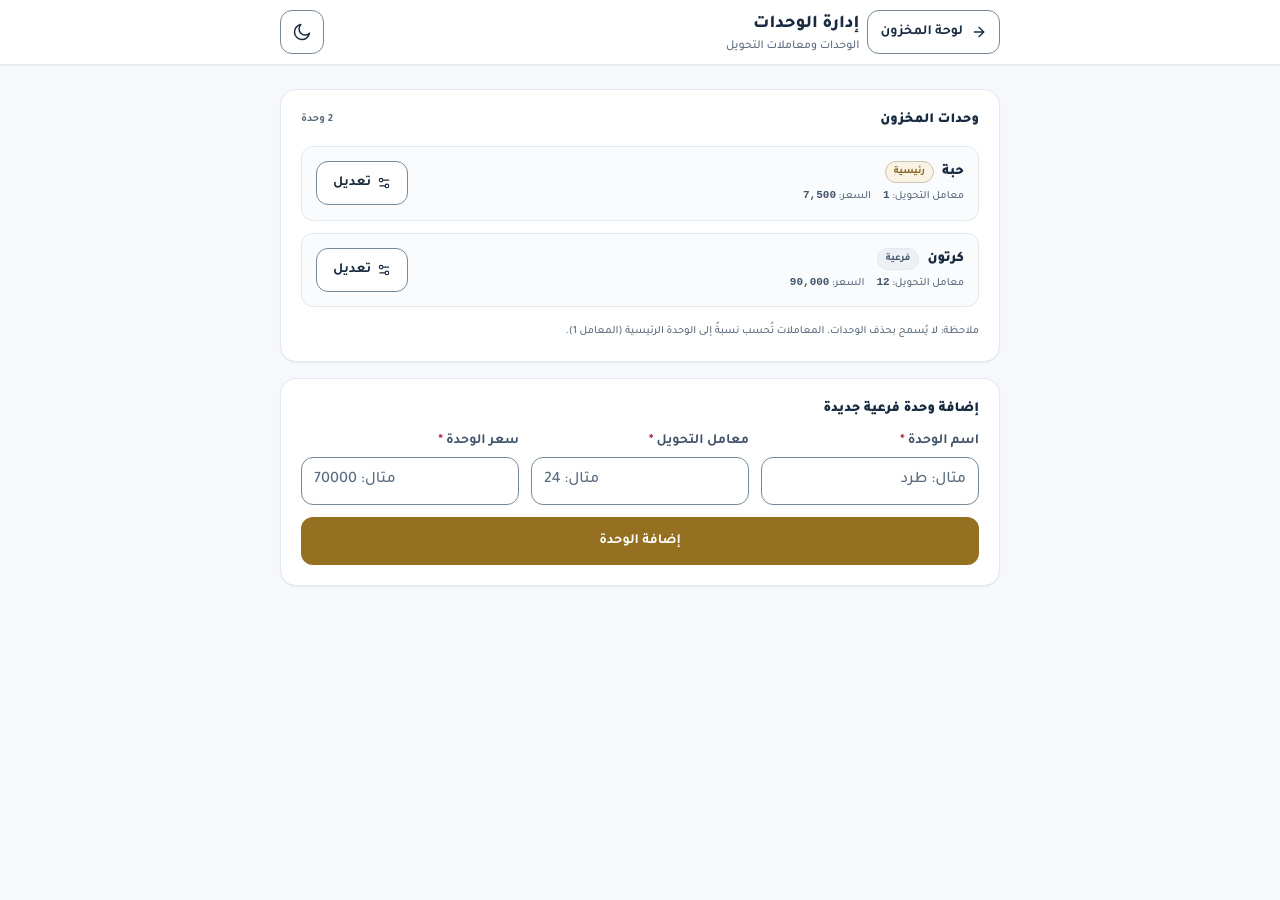
Test: StockUnitsPage — تعديل الوحدات › عند 1610 بدون تغيير الاسم يعرض رسالة الخطأ
The image size is (1280, 900).
Expected: the text "كرتون" is shown, [927,249,964,269]
Click the button "تعديل" in the row of "90,000". click: (362, 270)
box: [316,248,408,292]
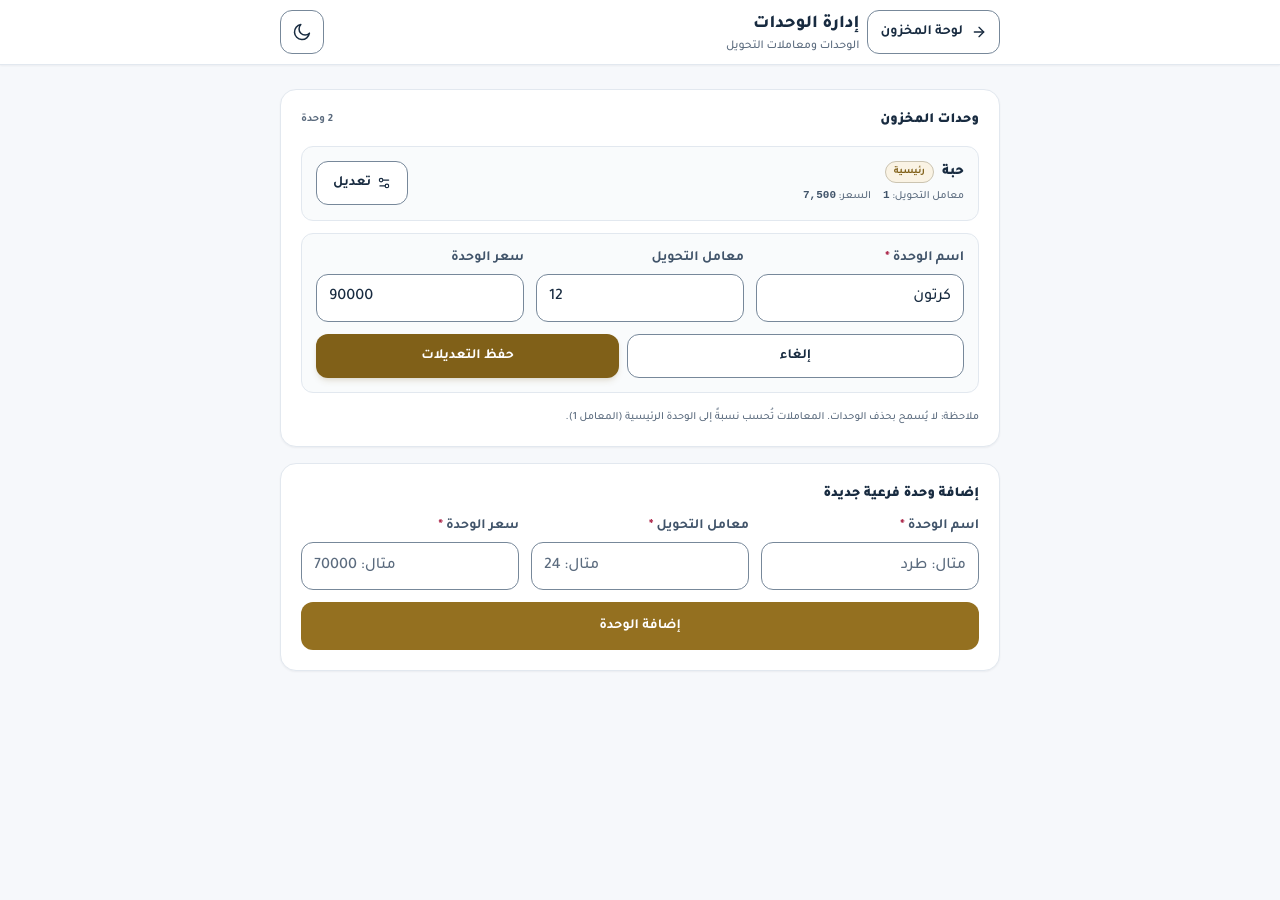
Replace the text in the field with id "edit-rate-11" with "15". click: (640, 298)
box: [536,274,744,322]
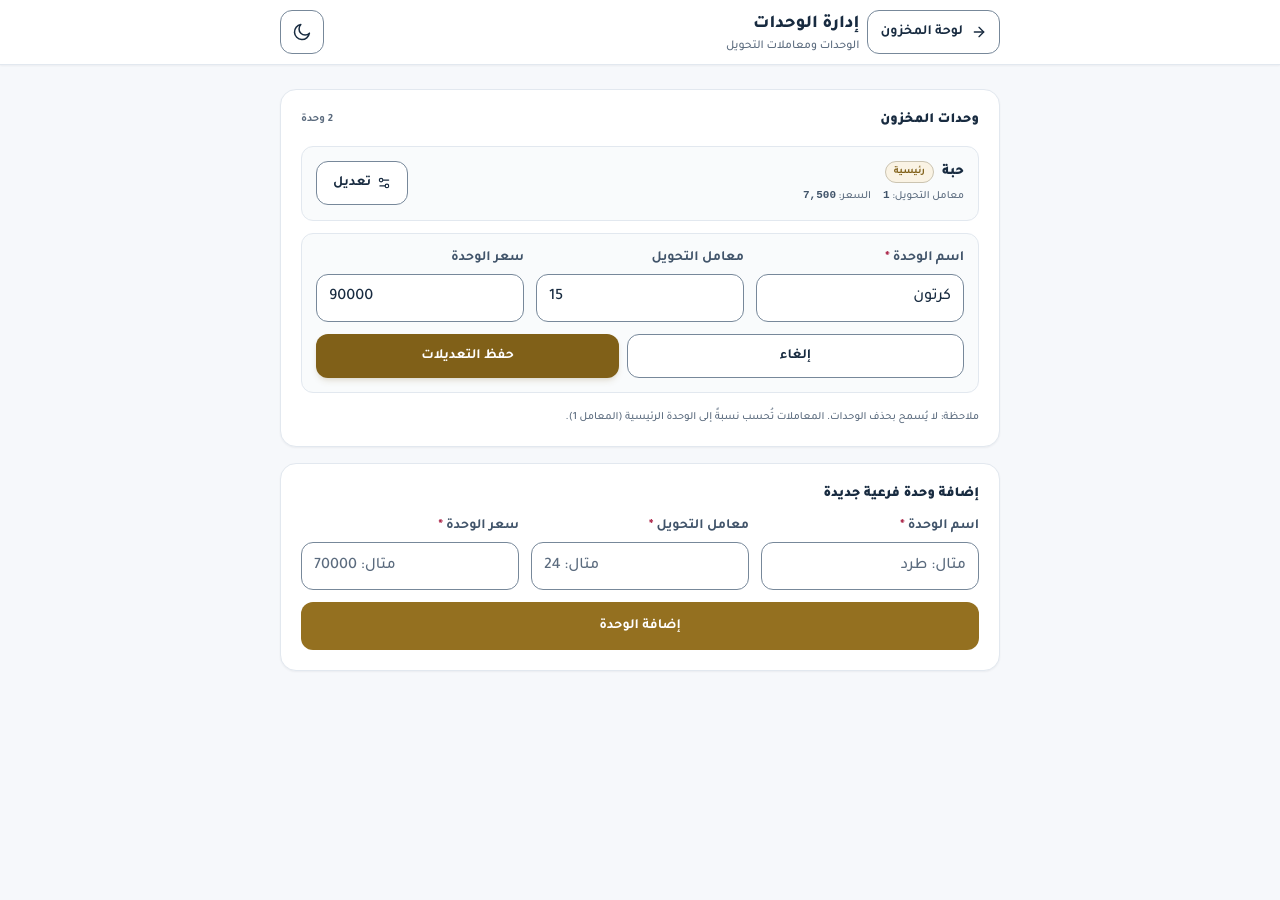
Click the button "حفظ التعديلات". click: (468, 356)
box: [316,334,619,378]
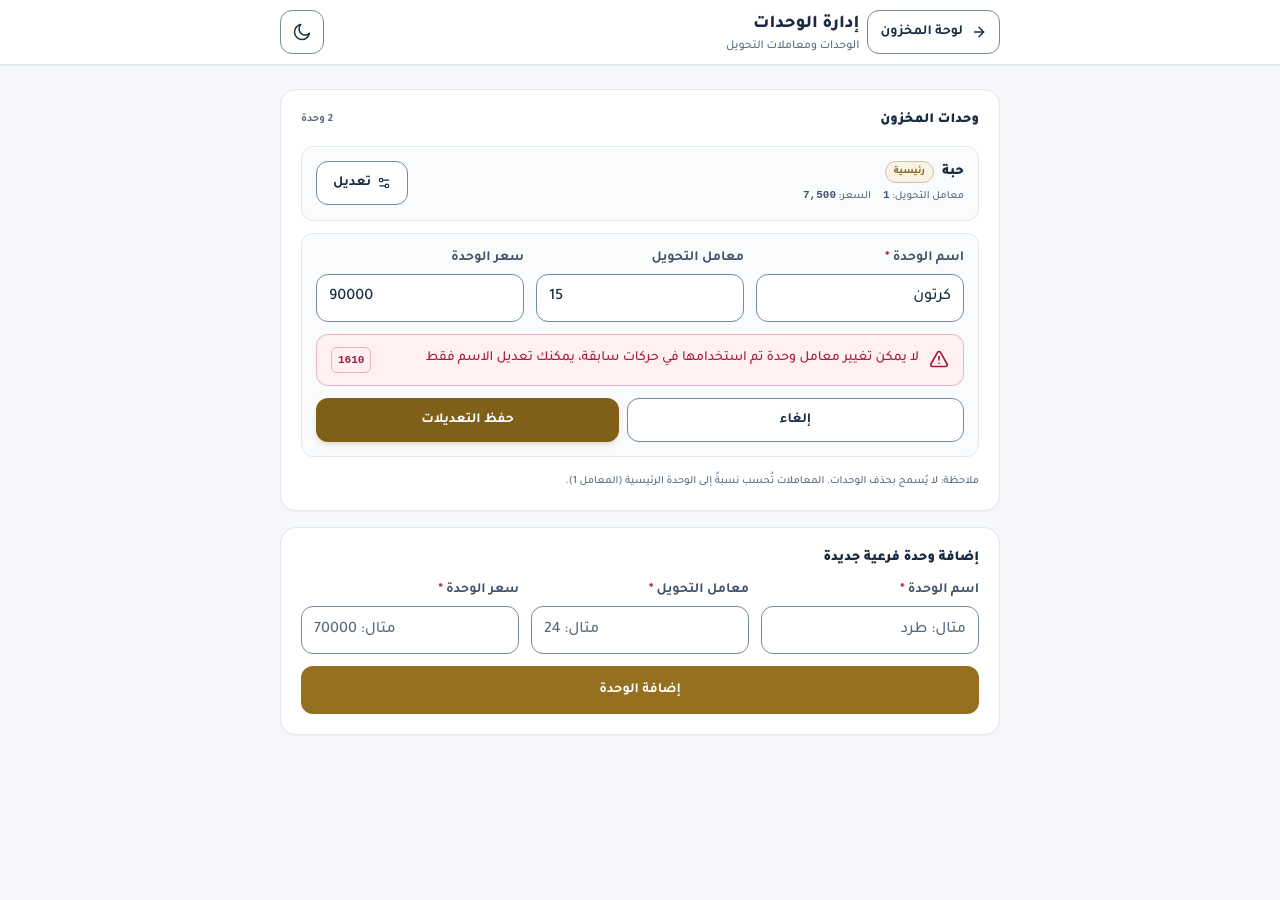
Result: the text "لا يمكن تغيير معامل وحدة تم استخدامها في حركات سابقة، يمكنك تعديل الاسم فقط" is shown at [381,347,919,369]
